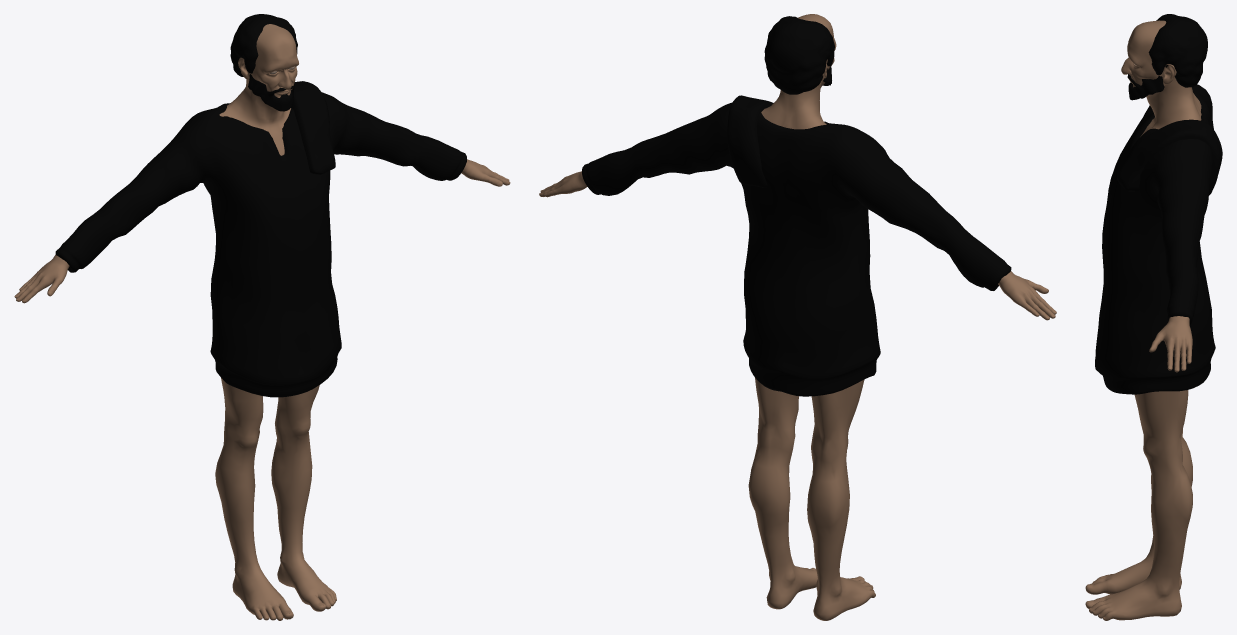
The model's file is Handler_LP.fbx.
The picture shows the model from 3 angles, left to right: view 1: azimuth 30°, elevation 25°; view 2: azimuth 150°, elevation 25°; view 3: azimuth 270°, elevation 25°; orthographic projection. The views are drawn at different scales.
Visible parts, largest first — view 1: Handler_LP; view 2: Handler_LP; view 3: Handler_LP.
Boxes of the visible parts, <box> form: Handler_LP: <box>14,14,510,620</box>; Handler_LP: <box>539,14,1056,620</box>; Handler_LP: <box>1085,14,1222,620</box>.
Bounding box in the file's own units: 164 × 181 × 38.53.
